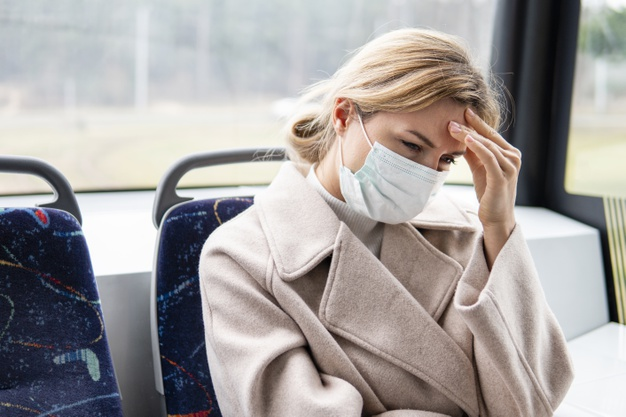surgical: (337, 142, 448, 228)
